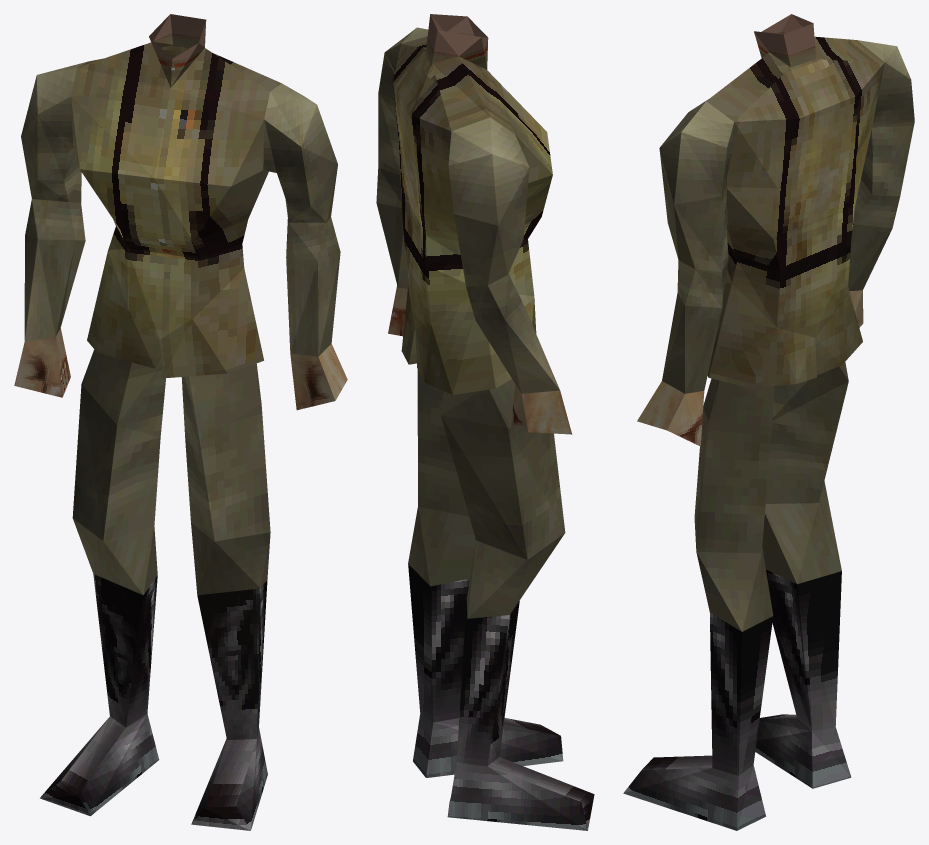
File: primary_004.glb
3 views of the same model, side by side, from view 1: azimuth 30°, elevation 25°; view 2: azimuth 150°, elevation 25°; view 3: azimuth 270°, elevation 25° (orthographic). The views are drawn at different scales.
Parts seen in each view (by area): view 1: Object; view 2: Object; view 3: Object.
Boxes of the visible parts, box(x1,y1,x2,y2) form: Object: box(14, 14, 347, 830); Object: box(376, 14, 594, 830); Object: box(623, 14, 914, 830).
Bounding box in the file's own units: 0.6417 × 1.83 × 0.6208.
Materials: 79 (79 with a texture image).
